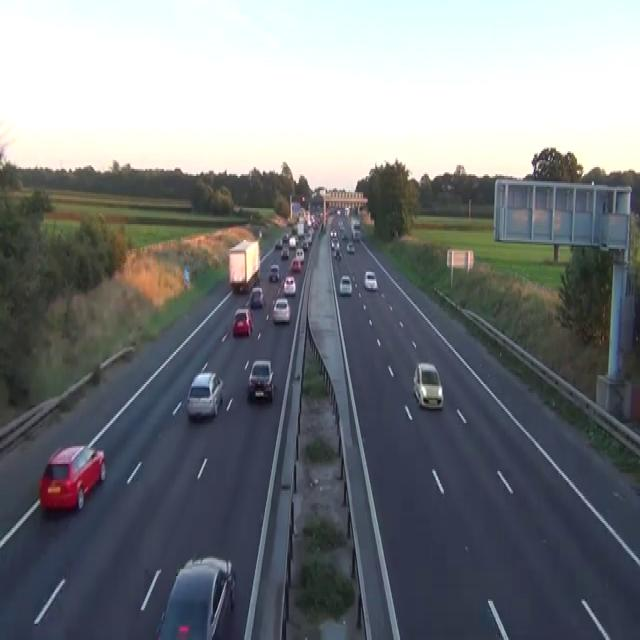Car: (155, 555, 235, 638), (39, 444, 106, 512), (186, 370, 223, 420), (412, 361, 443, 409), (247, 359, 275, 402), (232, 308, 253, 336), (272, 297, 290, 323), (249, 286, 264, 308), (363, 270, 377, 290), (339, 274, 352, 295), (283, 276, 296, 295), (268, 263, 280, 281), (291, 256, 301, 272), (295, 247, 304, 263), (338, 220, 345, 238), (280, 247, 289, 260), (330, 238, 339, 251), (274, 236, 282, 249), (346, 240, 354, 252), (289, 235, 297, 247), (334, 247, 341, 260), (301, 238, 308, 251), (282, 231, 289, 244), (352, 217, 360, 227), (329, 230, 337, 238), (340, 230, 345, 238), (336, 208, 341, 215)
Truck: (228, 238, 260, 292)
